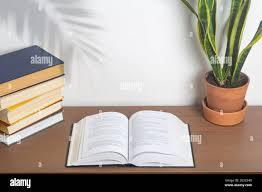Indoor Plant: (186, 2, 262, 124)
book: (66, 111, 194, 168), (0, 45, 65, 144)
